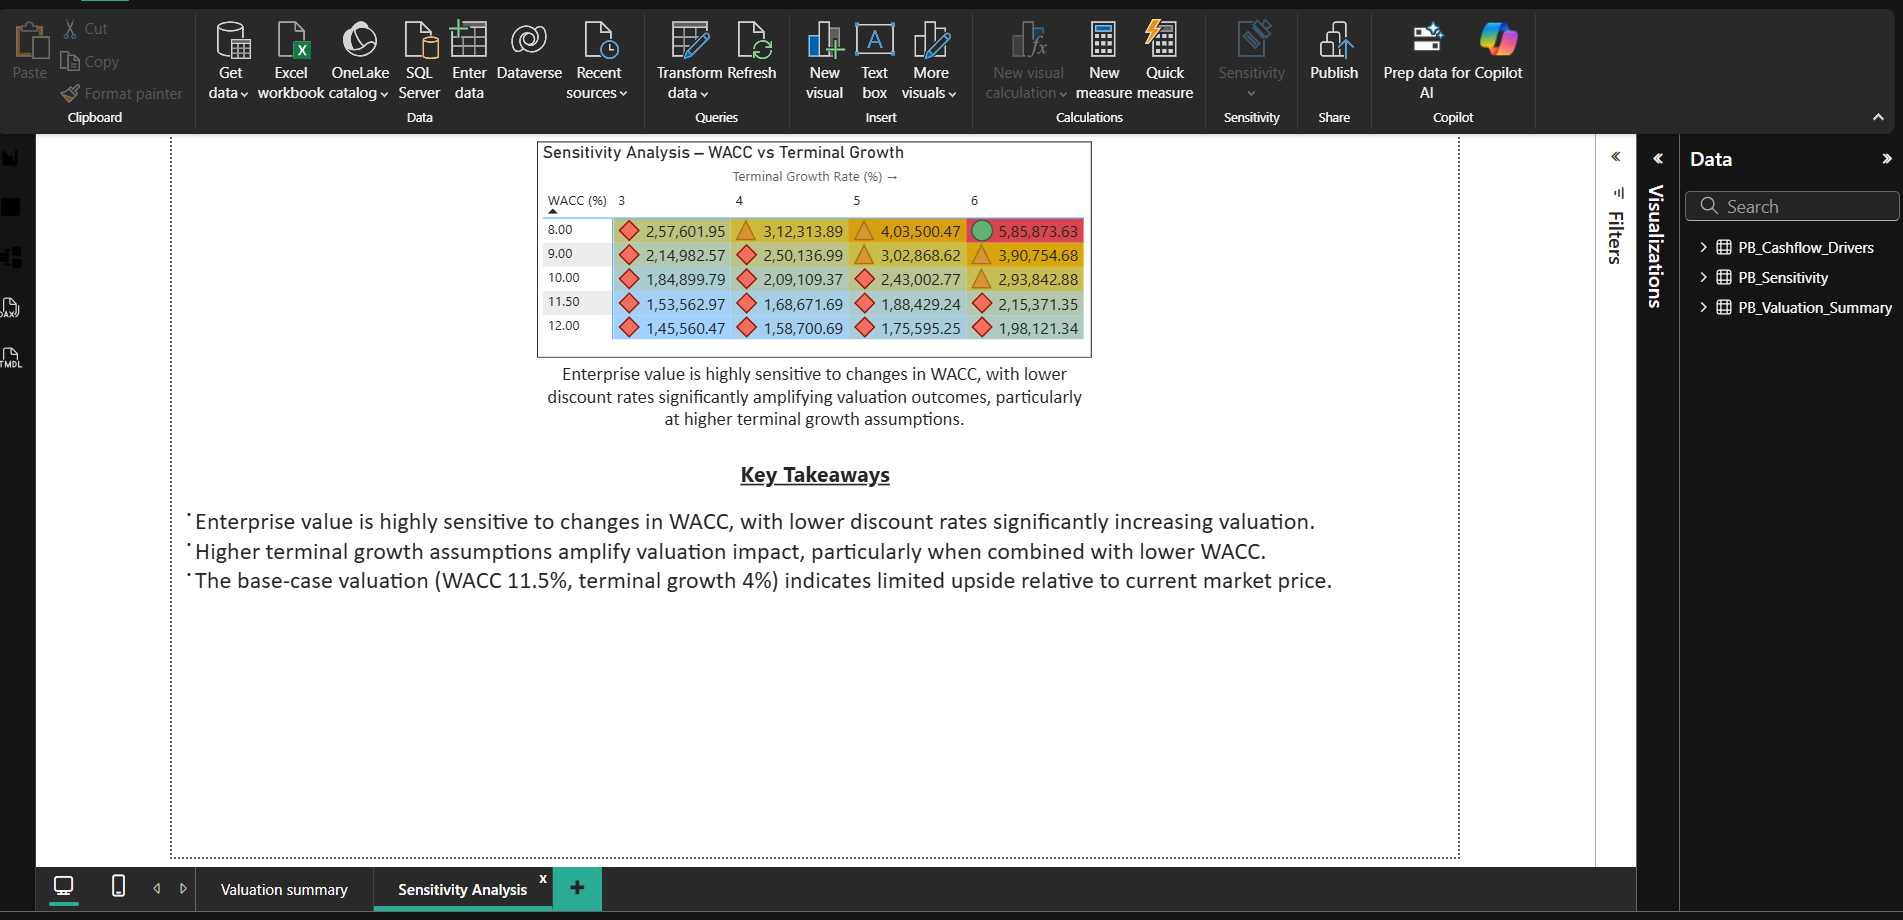

The page's visual inventory and layout, read from the dashboard file:
{"tool":"powerbi","page":{"name":"Sensitivity Analysis","canvas":[1280,720],"ordinal":1},"visuals":[{"type":"pivotTable","title":"Sensitivity Analysis – WACC vs Terminal Growth","fields":{"Rows":["PB_Sensitivity.WACC (%)"],"Columns":["PB_Sensitivity.Terminal Growth (%)"],"Values":["Sum(PB_Sensitivity.Enterprise Value (₹ Cr))"]},"box":[363.2,7.5,552.3,215.2],"z":0},{"type":"textbox","box":[363.2,222.7,552.3,80.9],"z":1000},{"type":"textbox","box":[0,318.5,1280,158],"z":2000}]}

Visuals, with their boxes on the page's 1280x720 design canvas (x1, y1, x2, y2). These are canvas units, not pixel positions in the 1903x920 screenshot, which may show the page scaled, cropped or inside an application window:
"Sensitivity Analysis – WACC vs Terminal Growth" pivotTable: pyautogui.locateOnScreen(363, 8, 916, 223)
textbox: pyautogui.locateOnScreen(363, 223, 916, 304)
textbox: pyautogui.locateOnScreen(0, 318, 1280, 476)
